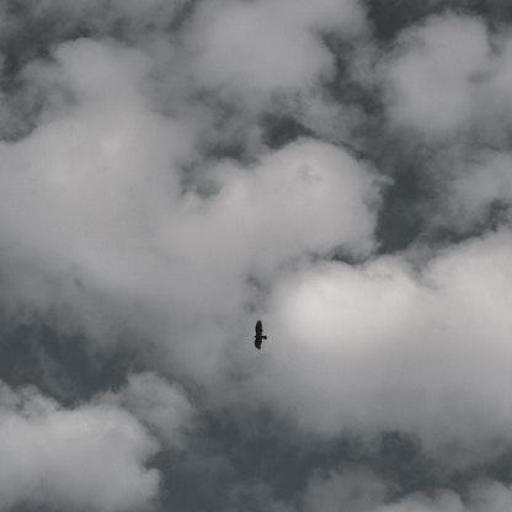bird: (240, 304, 283, 358)
